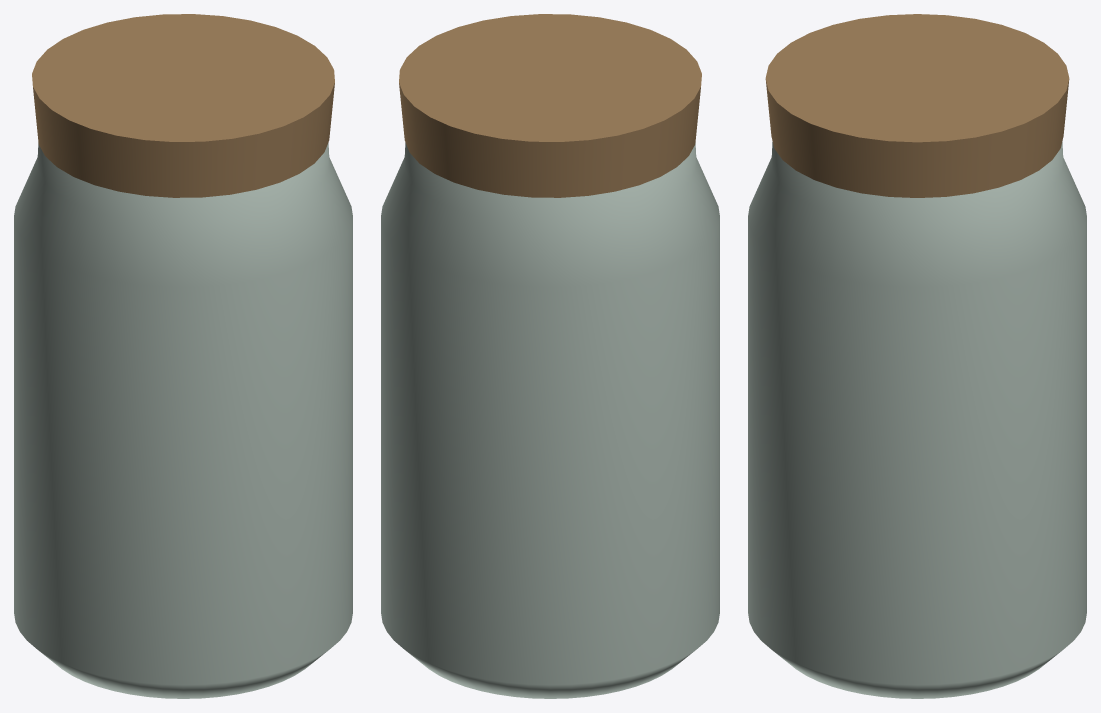
Rendered from lightjar.glb.
3 views of the same model, side by side, from view 1: azimuth 30°, elevation 25°; view 2: azimuth 150°, elevation 25°; view 3: azimuth 270°, elevation 25° (orthographic).
Visible parts, largest first — view 1: closed-jar-with-inset-floor, fitted-cork-lid; view 2: closed-jar-with-inset-floor, fitted-cork-lid; view 3: closed-jar-with-inset-floor, fitted-cork-lid.
Part boxes in pixels (bbox=[...]): closed-jar-with-inset-floor: bbox=[14, 142, 352, 698]; fitted-cork-lid: bbox=[32, 14, 334, 197]; closed-jar-with-inset-floor: bbox=[381, 142, 719, 698]; fitted-cork-lid: bbox=[399, 14, 701, 197]; closed-jar-with-inset-floor: bbox=[748, 142, 1086, 698]; fitted-cork-lid: bbox=[765, 14, 1069, 197].
Size of the model in its own units: 0.29 by 0.5303 by 0.29.
